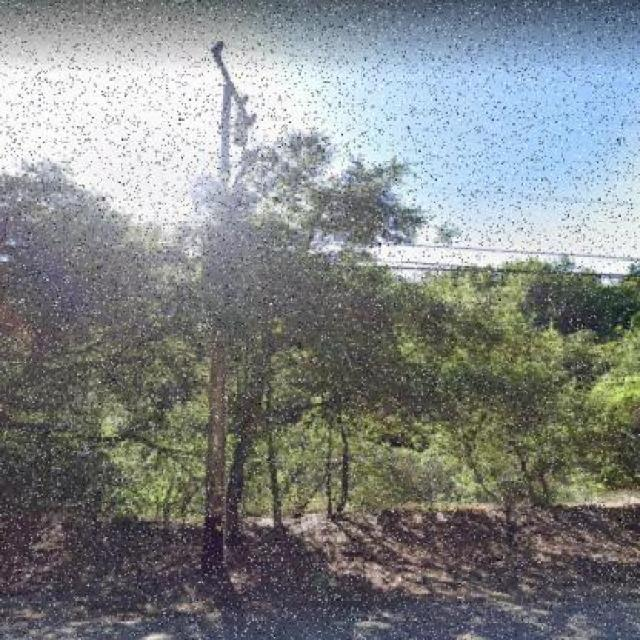pole: (148, 9, 268, 589)
